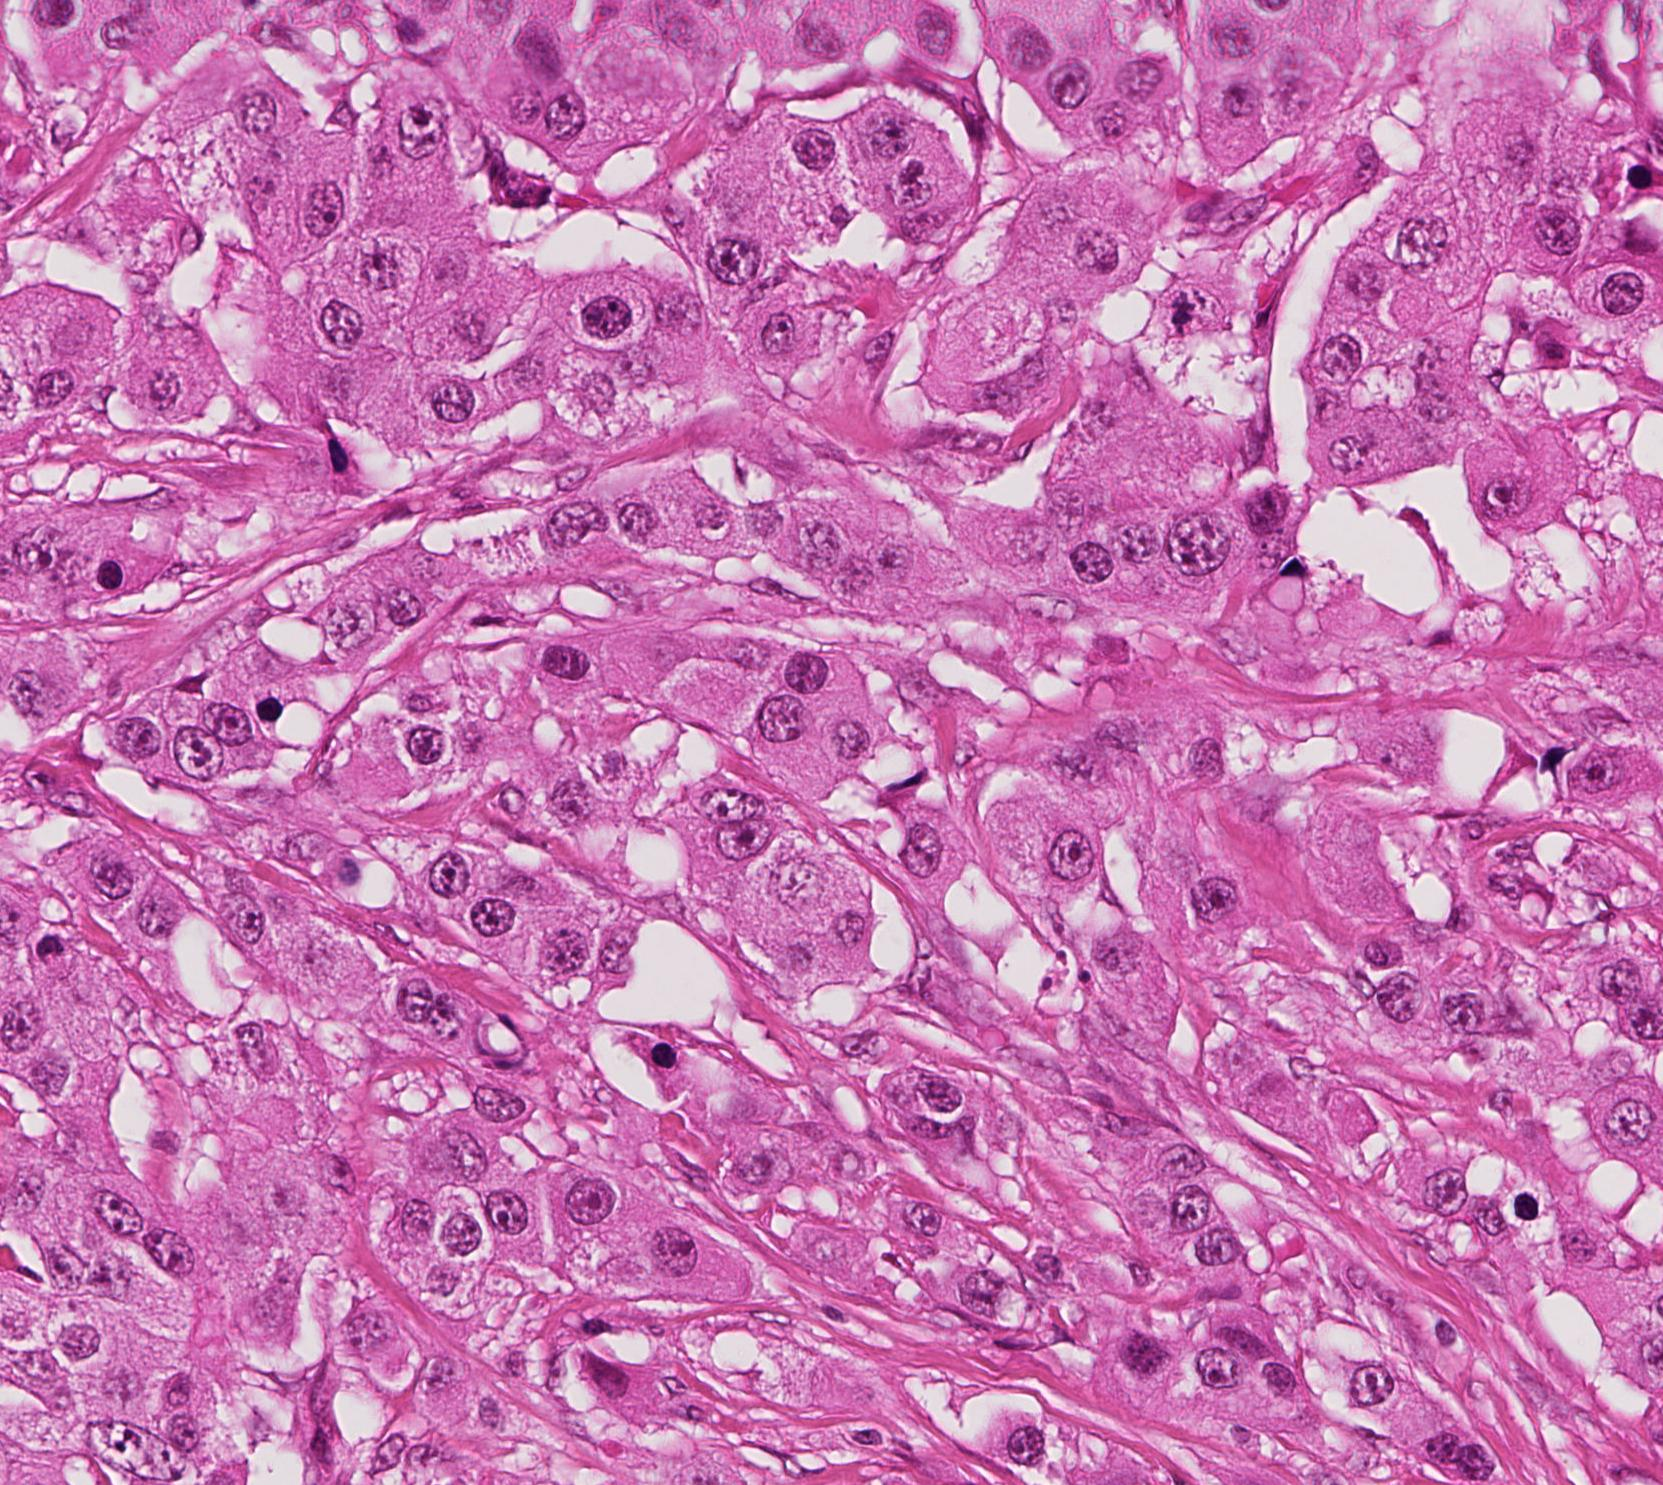mitosis: (1164, 277, 1224, 335)
